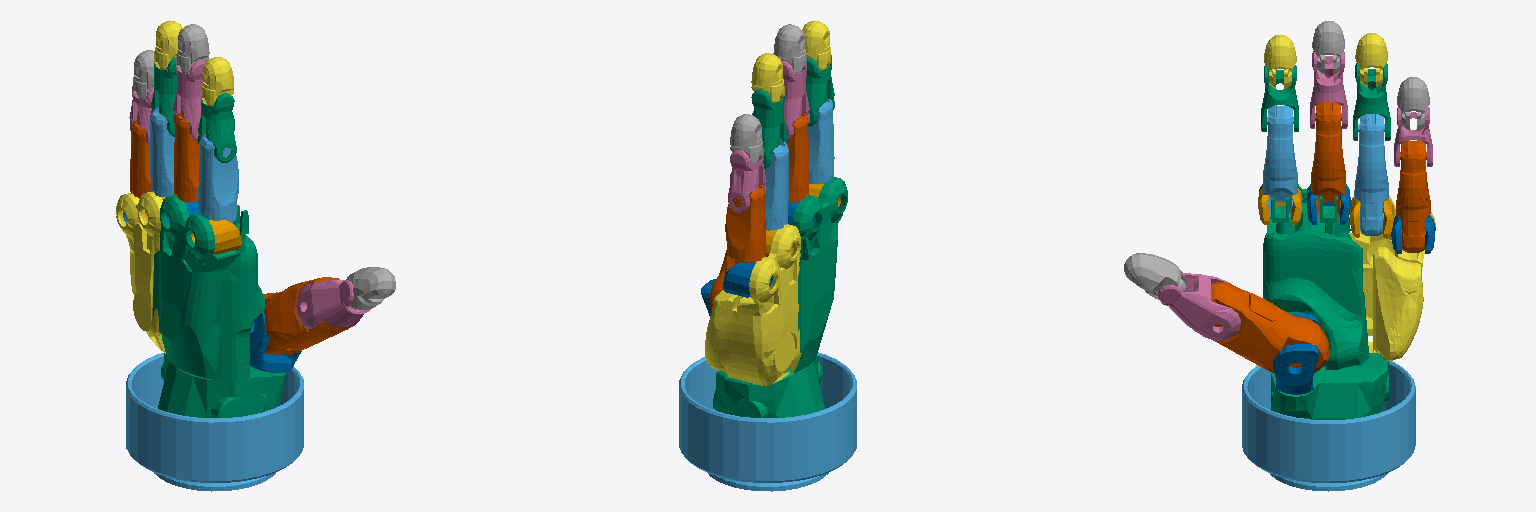
robot.urdf — svh:
<?xml version='1.0' encoding='utf-8'?>
<robot name="svh">
  <link name="base_link" />
  <joint name="root_joint" type="fixed">
    <parent link="base_link" />
    <child link="left_hand_base_link" />
    <origin rpy="0 0 -1.57079" xyz="0 0 0" />
  </joint>
  <link name="left_hand_base_link">
    <origin rpy="0 0 0" xyz="0 0 0" />
    <visual>
      <origin rpy="0 0 0" xyz="0 0 -0.032" />
      <geometry>
        <mesh filename="meshes/visual/base10.obj" />
      </geometry>
    </visual>
    <collision>
      <origin rpy="0 0 0" xyz="0 0 -0.009" />
      <geometry>
        <cylinder radius="0.045" length="0.045" />
      </geometry>
    </collision>
  </link>
  <link name="left_hand_e1">
    <visual>
      <origin rpy="0 0 0" xyz="0 0.01313 0" />
      <geometry>
        <mesh filename="meshes/visual/h10_left.obj" scale="1 1 1" />
      </geometry>
    </visual>
    <collision>
      <origin rpy="0 0 0" xyz="0 0.01313 0.013" />
      <geometry>
        <box size="0.05 0.05 0.026" />
      </geometry>
    </collision>
    <collision>
      <origin rpy="0 0 0" xyz="0.00573 0.0035 0.05747" />
      <geometry>
        <box size="0.0584 0.038 0.0641" />
      </geometry>
    </collision>
    <collision>
      <origin rpy="0 0 0" xyz="0.01 0.0035 0.096" />
      <geometry>
        <box size="0.042 0.038 0.015" />
      </geometry>
    </collision>
  </link>
  <link name="left_hand_e2">
    <visual>
      <origin xyz="0.0007 0 -0.01002" />
      <geometry>
        <mesh filename="meshes/visual/h11_left.obj" scale="1 1 1" />
      </geometry>
    </visual>
    <collision>
      <origin rpy="0 0 0" xyz="-0.016 0 0.02" />
      <geometry>
        <box size="0.0246 0.035 0.0564" />
      </geometry>
    </collision>
    <collision>
      <origin rpy="0 0 0" xyz="-0.0032 -0.0083 0.048" />
      <geometry>
        <box size="0.012 0.018 0.021" />
      </geometry>
    </collision>
  </link>
  <link name="left_hand_z">
    <visual>
      <origin xyz="0 0 0.02442" />
      <geometry>
        <mesh filename="meshes/visual/d10_left.obj" scale="1 1 1" />
      </geometry>
    </visual>
    <collision>
      <origin xyz="0 0 0.02842" />
      <geometry>
        <box size="0.024 0.0188 0.008" />
      </geometry>
    </collision>
    <collision>
      <origin xyz="0.0125 0.0 0.04292" />
      <geometry>
        <box size="0.006 0.024 0.033" />
      </geometry>
    </collision>
    <collision>
      <origin xyz="-0.0125 0.0 0.04292" />
      <geometry>
        <box size="0.006 0.024 0.033" />
      </geometry>
    </collision>
  </link>
  <link name="left_hand_a">
    <visual>
      <geometry>
        <mesh filename="meshes/visual/d11_left.obj" scale="1 1 1" />
      </geometry>
    </visual>
    <collision>
      <geometry>
        <mesh filename="meshes/collision/d11_left.obj" scale="1 1 1" />
      </geometry>
    </collision>
  </link>
  <link name="left_hand_b">
    <visual>
      <geometry>
        <mesh filename="meshes/visual/d12_left.obj" scale="1 1 1" />
      </geometry>
    </visual>
    <collision>
      <geometry>
        <mesh filename="meshes/collision/d12_left.obj" scale="1 1 1" />
      </geometry>
    </collision>
  </link>
  <link name="left_hand_c">
    <inertial>
      <origin rpy="0 0 0" xyz="0.007 0.000 0.000" />
      <mass value="0.02" />
      <inertia ixx="1e-5" ixy="0.0" ixz="0.0" iyy="2e-5" iyz="0.0" izz="2e-5" />
    </inertial>
    <visual>
      <geometry>
        <mesh filename="meshes/visual/d13_left.obj" scale="1 1 1" />
      </geometry>
    </visual>
    <collision>
      <geometry>
        <mesh filename="meshes/collision/d13_left.obj" scale="1 1 1" />
      </geometry>
    </collision>
  </link>
  <link name="left_hand_virtual_l">
    <visual>
      <origin xyz="0 0 0.01321" />
      <geometry>
        <mesh filename="meshes/visual/f10_f20.obj" />
      </geometry>
    </visual>
    <collision>
      <origin xyz="0 0 0.00121" />
      <geometry>
        <sphere radius="0.01" />
      </geometry>
    </collision>
  </link>
  <link name="left_hand_l">
    <visual>
      <geometry>
        <mesh filename="meshes/visual/f11.obj" />
      </geometry>
    </visual>
    <collision>
      <geometry>
        <mesh filename="meshes/collision/f11.obj" scale="1 1 1" />
      </geometry>
    </collision>
  </link>
  <link name="left_hand_p">
    <inertial>
      <origin rpy="0 0 0" xyz="0.01 0.000 0.000" />
      <mass value="0.024" />
      <inertia ixx="9e-7" ixy="0.0" ixz="0.0" iyy="3e-6" iyz="0.0" izz="2e-6" />
    </inertial>
    <visual>
      <geometry>
        <mesh filename="meshes/visual/f12.obj" />
      </geometry>
    </visual>
    <collision>
      <geometry>
        <mesh filename="meshes/collision/f12.obj" />
      </geometry>
    </collision>
  </link>
  <link name="left_hand_t">
    <inertial>
      <origin rpy="0 0 0" xyz="0.007 0.000 0.000" />
      <mass value="0.02" />
      <inertia ixx="1e-5" ixy="0.0" ixz="0.0" iyy="2e-5" iyz="0.0" izz="2e-5" />
    </inertial>
    <visual>
      <geometry>
        <mesh filename="meshes/visual/finger_tip.obj" />
      </geometry>
    </visual>
    <collision>
      <geometry>
        <mesh filename="meshes/collision/finger_tip.obj" scale="1 1 1" />
      </geometry>
    </collision>
  </link>
  <link name="left_hand_virtual_k">
    <visual>
      <origin xyz="0 0 0.01321" />
      <geometry>
        <mesh filename="meshes/visual/f10_f20.obj" />
      </geometry>
    </visual>
    <collision>
      <origin xyz="0 0 0.00321" />
      <geometry>
        <sphere radius="0.01" />
      </geometry>
    </collision>
  </link>
  <link name="left_hand_k">
    <visual>
      <geometry>
        <mesh filename="meshes/visual/f21.obj" />
      </geometry>
    </visual>
    <collision>
      <geometry>
        <mesh filename="meshes/collision/f21.obj" scale="1 1 1" />
      </geometry>
    </collision>
  </link>
  <link name="left_hand_o">
    <visual>
      <geometry>
        <mesh filename="meshes/visual/f22_f32.obj" />
      </geometry>
    </visual>
    <collision>
      <geometry>
        <mesh filename="meshes/collision/f22_f32.obj" scale="1 1 1" />
      </geometry>
    </collision>
  </link>
  <link name="left_hand_s">
    <inertial>
      <origin rpy="0 0 0" xyz="0.007 0.000 0.000" />
      <mass value="0.02" />
      <inertia ixx="1e-5" ixy="0.0" ixz="0.0" iyy="2e-5" iyz="0.0" izz="2e-5" />
    </inertial>
    <visual>
      <geometry>
        <mesh filename="meshes/visual/finger_tip.obj" />
      </geometry>
    </visual>
    <collision>
      <geometry>
        <mesh filename="meshes/collision/finger_tip.obj" scale="1 1 1" />
      </geometry>
    </collision>
  </link>
  <link name="left_hand_virtual_j">
    <visual>
      <origin xyz="0 0 -0.01321" />
      <geometry>
        <mesh filename="meshes/visual/f30_f40.obj" />
      </geometry>
    </visual>
    <collision>
      <origin xyz="0 0 -0.00321" />
      <geometry>
        <sphere radius="0.01" />
      </geometry>
    </collision>
  </link>
  <link name="left_hand_j">
    <visual>
      <geometry>
        <mesh filename="meshes/visual/f31.obj" />
      </geometry>
    </visual>
    <collision>
      <geometry>
        <mesh filename="meshes/collision/f31.obj" scale="1 1 1" />
      </geometry>
    </collision>
  </link>
  <link name="left_hand_n">
    <visual>
      <geometry>
        <mesh filename="meshes/visual/f22_f32.obj" />
      </geometry>
    </visual>
    <collision>
      <geometry>
        <mesh filename="meshes/collision/f22_f32.obj" scale="1 1 1" />
      </geometry>
    </collision>
  </link>
  <link name="left_hand_r">
    <inertial>
      <origin rpy="0 0 0" xyz="0.007 0.000 0.000" />
      <mass value="0.02" />
      <inertia ixx="1e-5" ixy="0.0" ixz="0.0" iyy="2e-5" iyz="0.0" izz="2e-5" />
    </inertial>
    <visual>
      <geometry>
        <mesh filename="meshes/visual/finger_tip.obj" />
      </geometry>
    </visual>
    <collision>
      <geometry>
        <mesh filename="meshes/collision/finger_tip.obj" scale="1 1 1" />
      </geometry>
    </collision>
  </link>
  <link name="left_hand_virtual_i">
    <visual>
      <origin xyz="0 0 -0.01321" />
      <geometry>
        <mesh filename="meshes/visual/f30_f40.obj" />
      </geometry>
    </visual>
    <collision>
      <origin xyz="0 0 -0.00321" />
      <geometry>
        <sphere radius="0.01" />
      </geometry>
    </collision>
  </link>
  <link name="left_hand_i">
    <visual>
      <geometry>
        <mesh filename="meshes/visual/f41.obj" />
      </geometry>
    </visual>
    <collision>
      <geometry>
        <mesh filename="meshes/collision/f41.obj" />
      </geometry>
    </collision>
  </link>
  <link name="left_hand_m">
    <inertial>
      <origin rpy="0 0 0" xyz="0.007 0.000 0.000" />
      <mass value="0.02" />
      <inertia ixx="8e-7" ixy="0.0" ixz="0.0" iyy="2e-6" iyz="0.0" izz="2e-6" />
    </inertial>
    <visual>
      <geometry>
        <mesh filename="meshes/visual/f42.obj" />
      </geometry>
    </visual>
    <collision>
      <geometry>
        <mesh filename="meshes/collision/f42.obj" />
      </geometry>
    </collision>
  </link>
  <link name="left_hand_q">
    <inertial>
      <origin rpy="0 0 0" xyz="0.007 0.000 0.000" />
      <mass value="0.02" />
      <inertia ixx="1e-5" ixy="0.0" ixz="0.0" iyy="2e-5" iyz="0.0" izz="2e-5" />
    </inertial>
    <visual>
      <geometry>
        <mesh filename="meshes/visual/finger_tip.obj" />
      </geometry>
    </visual>
    <collision>
      <geometry>
        <mesh filename="meshes/collision/finger_tip.obj" />
      </geometry>
    </collision>
  </link>
  <joint name="left_hand_Thumb_Flexion" type="revolute">
    <parent link="left_hand_z" />
    <child link="left_hand_a" />
    <limit effort="1000.0" lower="-0.9704" upper="0.0" velocity="1" />
    <origin rpy="-1.57079 -0.6004 -1.57079" xyz="0 0 0.04596" />
    <axis xyz="0 0 1" />
  </joint>
  <joint name="left_hand_Thumb_Opposition" type="revolute">
    <parent link="left_hand_e1" />
    <child link="left_hand_z" />
    <limit effort="1000.0" lower="0.0" upper="0.9879" velocity="1" />
    <origin rpy="0 0.2618 1.571" xyz="0.0169 0.02626 0" />
    <axis xyz="0 0 1" />
  </joint>
  <joint name="left_hand_f4" type="fixed">
    <parent link="left_hand_base_link" />
    <child link="left_hand_e1" />
    <origin rpy="0 0 0" xyz="0 -0.01313 0" />
  </joint>
  <joint name="left_hand_j5" type="revolute">
    <parent link="left_hand_e1" />
    <child link="left_hand_e2" />
    <limit effort="1000.0" upper="0.0" lower="-0.98786" velocity="1" />
    <origin rpy="0 0 0" xyz="-0.0184 0.006 0.0375" />
    <axis xyz="0 0 1" />
    <mimic joint="left_hand_Thumb_Opposition" multiplier="1" offset="0" />
  </joint>
  <joint name="left_hand_j3" type="revolute">
    <parent link="left_hand_a" />
    <child link="left_hand_b" />
    <limit effort="1000.0" upper="0.0" lower="-0.98506" velocity="1" />
    <origin rpy="0 0 0" xyz="0.0485 0 0" />
    <axis xyz="0 0 1" />
    <mimic joint="left_hand_Thumb_Flexion" multiplier="1.01511" offset="0" />
  </joint>
  <joint name="left_hand_j4" type="revolute">
    <parent link="left_hand_b" />
    <child link="left_hand_c" />
    <limit effort="1000.0" lower="-1.406" upper="0" velocity="1" />
    <origin rpy="0 0 0" xyz="0.030 0 0" />
    <axis xyz="0 0 1" />
    <mimic joint="left_hand_Thumb_Flexion" multiplier="1.44889" offset="0" />
  </joint>
  <joint name="left_hand_Index_Finger_Distal" type="revolute">
    <parent link="left_hand_l" />
    <child link="left_hand_p" />
    <limit effort="1000.0" lower="0" upper="1.334" velocity="1" />
    <origin rpy="0 0 0" xyz="0.04804 0 0" />
    <axis xyz="0 0 1" />
  </joint>
  <joint name="left_hand_Index_Finger_Proximal" type="revolute">
    <parent link="left_hand_virtual_l" />
    <child link="left_hand_l" />
    <limit effort="1000.0" lower="0.0" upper="0.79849" velocity="1" />
    <origin rpy="-1.5707 0 0" xyz="0 0 0" />
    <axis xyz="0 0 1" />
  </joint>
  <joint name="left_hand_j14" type="revolute">
    <parent link="left_hand_p" />
    <child link="left_hand_t" />
    <limit effort="1000.0" lower="0" upper="1.394" velocity="1" />
    <origin rpy="0 0 0" xyz="0.026 0 0" />
    <axis xyz="0 0 1" />
    <mimic joint="left_hand_Index_Finger_Distal" multiplier="1.0450" offset="0" />
  </joint>
  <joint name="left_hand_Middle_Finger_Proximal" type="revolute">
    <parent link="left_hand_virtual_k" />
    <child link="left_hand_k" />
    <limit effort="1000.0" lower="0.0" upper="0.79849" velocity="1" />
    <origin rpy="-1.5707 0 0" xyz="0 0 0" />
    <axis xyz="0 0 1" />
  </joint>
  <joint name="left_hand_Middle_Finger_Distal" type="revolute">
    <parent link="left_hand_k" />
    <child link="left_hand_o" />
    <limit effort="1000.0" lower="0" upper="1.334" velocity="1" />
    <origin rpy="0 0 0" xyz="0.05004 0 0" />
    <axis xyz="0 0 1" />
  </joint>
  <joint name="left_hand_j15" type="revolute">
    <parent link="left_hand_o" />
    <child link="left_hand_s" />
    <limit effort="1000.0" lower="0" upper="1.334" velocity="1" />
    <origin rpy="0 0 0" xyz="0.032 0 0" />
    <axis xyz="0 0 1" />
    <mimic joint="left_hand_Middle_Finger_Distal" multiplier="1.0454" offset="0" />
  </joint>
  <joint name="left_hand_Ring_Finger" type="revolute">
    <parent link="left_hand_virtual_j" />
    <child link="left_hand_j" />
    <limit effort="1000.0" lower="0.0" upper="0.98175" velocity="1" />
    <origin rpy="1.5707 0 0" xyz="0 0 0" />
    <axis xyz="0 0 1" />
  </joint>
  <joint name="left_hand_j12" type="revolute">
    <parent link="left_hand_j" />
    <child link="left_hand_n" />
    <limit effort="1000.0" lower="0" upper="1.334" velocity="1" />
    <origin rpy="0 0 0" xyz="0.05004 0 0" />
    <axis xyz="0 0 1" />
    <mimic joint="left_hand_Ring_Finger" multiplier="1.3588" offset="0" />
  </joint>
  <joint name="left_hand_j16" type="revolute">
    <parent link="left_hand_n" />
    <child link="left_hand_r" />
    <limit effort="1000.0" lower="0" upper="1.395" velocity="1" />
    <origin rpy="0 0 0" xyz="0.032 0 0" />
    <axis xyz="0 0 1" />
    <mimic joint="left_hand_Ring_Finger" multiplier="1.42093" offset="0" />
  </joint>
  <joint name="left_hand_Pinky" type="revolute">
    <parent link="left_hand_virtual_i" />
    <child link="left_hand_i" />
    <limit effort="1000.0" lower="0.0" upper="0.98175" velocity="1" />
    <origin rpy="1.5707 0 0" xyz="0 0 0" />
    <axis xyz="0 0 1" />
  </joint>
  <joint name="left_hand_j13" type="revolute">
    <parent link="left_hand_i" />
    <child link="left_hand_m" />
    <limit effort="1000.0" lower="0" upper="1.334" velocity="1" />
    <origin rpy="0 0 0" xyz="0.04454 0 0" />
    <axis xyz="0 0 1" />
    <mimic joint="left_hand_Pinky" multiplier="1.35880" offset="0" />
  </joint>
  <joint name="left_hand_j17" type="revolute">
    <parent link="left_hand_m" />
    <child link="left_hand_q" />
    <limit effort="1000.0" lower="0" upper="1.3971" velocity="1" />
    <origin rpy="0 0 0" xyz="0.022 0 0" />
    <axis xyz="0 0 1" />
    <mimic joint="left_hand_Pinky" multiplier="1.42307" offset="0" />
  </joint>
  <joint name="left_hand_index_spread" type="revolute">
    <parent link="left_hand_e1" />
    <child link="left_hand_virtual_l" />
    <limit effort="1000.0" upper="0.0" lower="-0.28833" velocity="1" />
    <origin rpy="0 -1.5707 1.5707" xyz="0.025 0 0.110" />
    <axis xyz="0 0 1" />
    <mimic joint="left_hand_Finger_Spread" multiplier="0.5" offset="0" />
  </joint>
  <joint name="left_hand_middle_spread_dummy" type="fixed">
    <parent link="left_hand_e1" />
    <child link="left_hand_virtual_k" />
    <origin rpy="0 -1.5707 1.5707" xyz="0 0 0.110" />
  </joint>
  <joint name="left_hand_ring_spread" type="revolute">
    <parent link="left_hand_e2" />
    <child link="left_hand_virtual_j" />
    <limit effort="1000.0" upper="0.0" lower="-0.28833" velocity="1" />
    <origin rpy="-1.5707 -1.5707 0" xyz="-0.003855 -0.006 0.0655" />
    <axis xyz="0 0 1" />
    <mimic joint="left_hand_Finger_Spread" multiplier="0.5" offset="0" />
  </joint>
  <joint name="left_hand_Finger_Spread" type="revolute">
    <parent link="left_hand_e2" />
    <child link="left_hand_virtual_i" />
    <limit effort="1000.0" upper="0.0" lower="-0.5829" velocity="1" />
    <origin rpy="-1.5707 -1.5707 0" xyz="-0.025355 -0.006 0.056" />
    <axis xyz="0 0 1" />
  </joint>
  <link name="thtip" />
  <link name="fftip" />
  <link name="mftip" />
  <link name="rftip" />
  <link name="lftip" />
  <joint name="thtip_joint" type="fixed">
    <parent link="left_hand_c" />
    <child link="thtip" />
    <origin rpy="0.00000 -0.00000 0.00000" xyz="0.0275 0.000 0.000" />
  </joint>
  <joint name="fftip_joint" type="fixed">
    <parent link="left_hand_t" />
    <child link="fftip" />
    <origin rpy="0.00000 -0.00000 0.00000" xyz="0.014 0.000 0.000" />
  </joint>
  <joint name="mftip_joint" type="fixed">
    <parent link="left_hand_s" />
    <child link="mftip" />
    <origin rpy="0.00000 -0.00000 0.00000" xyz="0.014 0.000 0.000" />
  </joint>
  <joint name="rftip_joint" type="fixed">
    <parent link="left_hand_r" />
    <child link="rftip" />
    <origin rpy="0.00000 -0.00000 0.00000" xyz="0.014 0.000 0.000" />
  </joint>
  <joint name="lftip_joint" type="fixed">
    <parent link="left_hand_q" />
    <child link="lftip" />
    <origin rpy="0.00000 -0.00000 0.00000" xyz="0.014 0.000 0.000" />
  </joint>
</robot>

--- Facts derived from the render (not from the file) ---
Views: 3 orthographic renders of the robot side by side, from view 1: azimuth 30°, elevation 25°; view 2: azimuth 150°, elevation 25°; view 3: azimuth 270°, elevation 25°.
Model svh with 29 links and 28 joints (20 revolute, 8 fixed), rooted at base_link, posed all joints at 0.
Links seen in each view (by area): view 1: left_hand_e1, left_hand_base_link, left_hand_e2, left_hand_a, left_hand_l, left_hand_b, left_hand_k, left_hand_j, left_hand_p, left_hand_c, left_hand_o, left_hand_z (+8 smaller); view 2: left_hand_base_link, left_hand_e1, left_hand_e2, left_hand_i, left_hand_j, left_hand_l, left_hand_k, left_hand_n, left_hand_m, left_hand_o, left_hand_p, left_hand_r (+4 smaller); view 3: left_hand_e1, left_hand_base_link, left_hand_e2, left_hand_a, left_hand_j, left_hand_b, left_hand_i, left_hand_k, left_hand_l, left_hand_z, left_hand_c, left_hand_o (+11 smaller).
Boxes of the visible links, x1,y1,x2,y2 form: left_hand_e1: [153, 195, 286, 417]; left_hand_base_link: [126, 353, 303, 491]; left_hand_e2: [116, 192, 165, 353]; left_hand_a: [263, 277, 348, 355]; left_hand_l: [198, 134, 238, 222]; left_hand_b: [296, 280, 370, 329]; left_hand_k: [174, 112, 199, 202]; left_hand_j: [150, 107, 174, 196]; left_hand_p: [198, 93, 236, 162]; left_hand_c: [346, 267, 395, 309]; left_hand_o: [173, 60, 205, 140]; left_hand_z: [250, 305, 301, 372]; left_hand_base_link: [679, 352, 856, 491]; left_hand_e1: [713, 177, 847, 417]; left_hand_e2: [705, 224, 801, 385]; left_hand_i: [725, 184, 765, 272]; left_hand_j: [765, 139, 788, 230]; left_hand_l: [808, 98, 834, 184]; left_hand_k: [787, 112, 809, 202]; left_hand_n: [751, 89, 787, 168]; left_hand_m: [728, 149, 766, 212]; left_hand_o: [782, 61, 809, 139]; left_hand_p: [806, 55, 834, 126]; left_hand_r: [751, 53, 784, 102]; left_hand_e1: [1259, 184, 1388, 419]; left_hand_base_link: [1242, 361, 1415, 491]; left_hand_e2: [1350, 195, 1435, 360]; left_hand_a: [1211, 282, 1329, 373]; left_hand_j: [1354, 114, 1388, 235]; left_hand_b: [1158, 270, 1240, 340]; left_hand_i: [1396, 140, 1430, 252]; left_hand_k: [1311, 102, 1345, 217]; left_hand_l: [1263, 105, 1297, 223]; left_hand_z: [1273, 313, 1318, 394]; left_hand_c: [1124, 253, 1186, 299]; left_hand_o: [1310, 51, 1347, 128].
Bounding box of the posed robot: 0.0936 × 0.1609 × 0.2465 m (x, y, z).
Meshes: 17 distinct files referenced, 23 mesh visuals loaded (17 OBJ).
